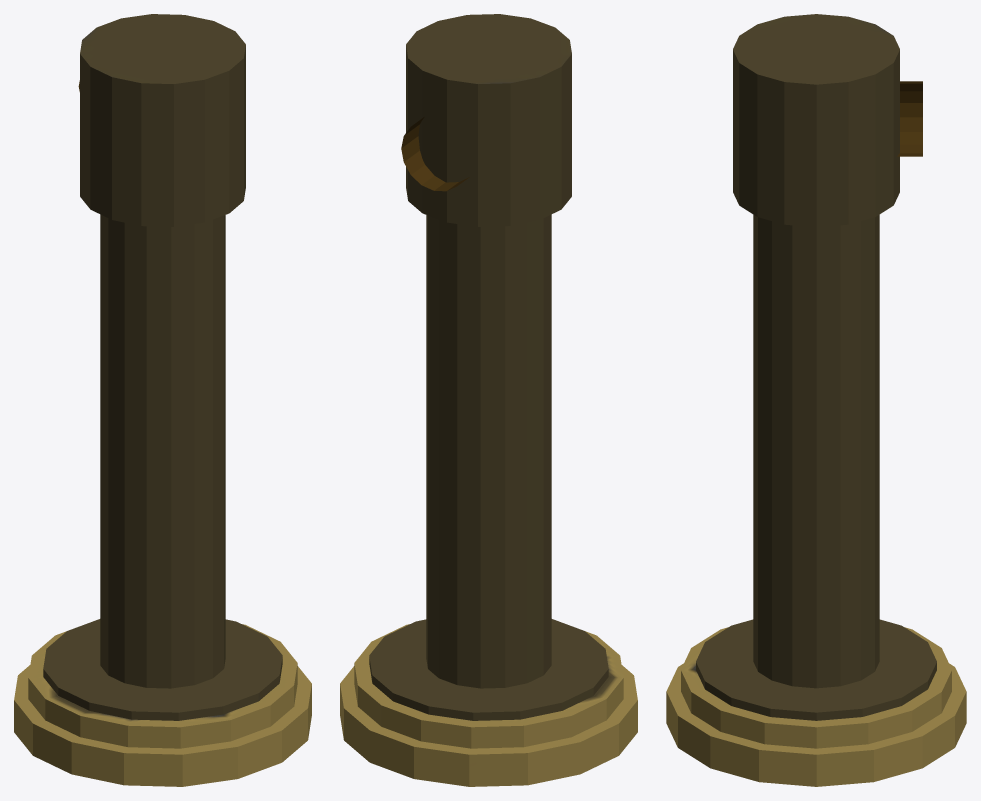
File: base timón.glb
3 views of the same model, side by side, from view 1: azimuth 30°, elevation 25°; view 2: azimuth 150°, elevation 25°; view 3: azimuth 270°, elevation 25° (orthographic).
Parts seen in each view (by area): view 1: BASE TIMON; view 2: BASE TIMON; view 3: BASE TIMON.
Boxes of the visible parts, box(x1,y1,x2,y2) form: BASE TIMON: box(14, 14, 311, 786); BASE TIMON: box(340, 14, 637, 786); BASE TIMON: box(666, 14, 966, 786).
Size of the model in its own units: 0.4597 by 1.14 by 0.4597.
Materials: 2 (2 with a texture image).
